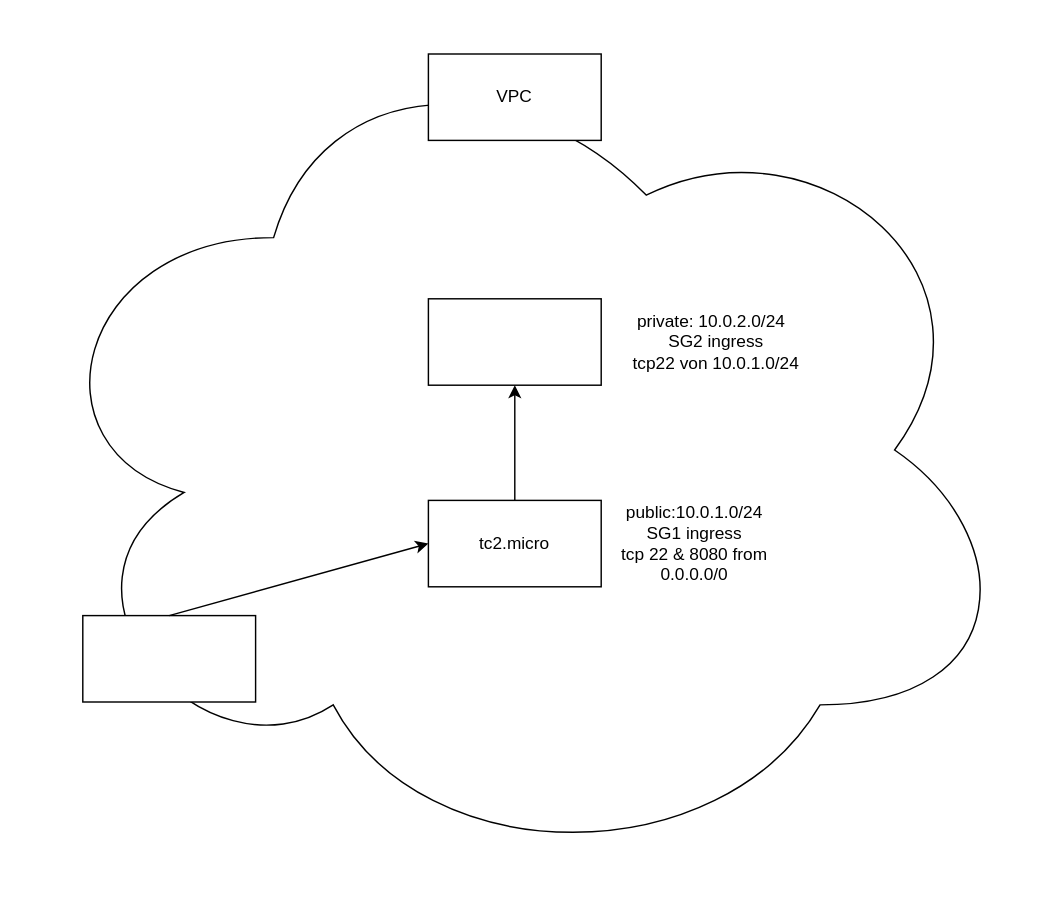
The diagram is 1044 pixels wide and 900 high, and some of its shapes have lost their labels. The centre of each missing label's shape, as x and y in pixels:
IGW: (168,658)
t2.micro: (514,341)
